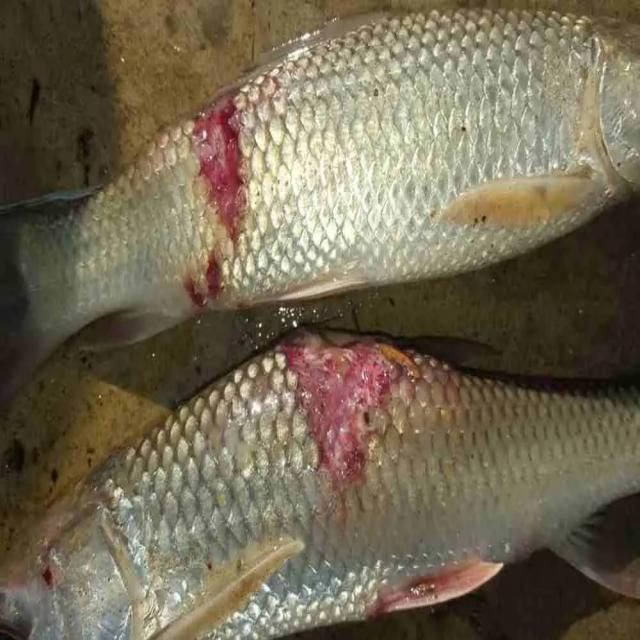EUS Disease: (10, 17, 639, 640), (200, 318, 499, 640), (127, 68, 326, 318)
